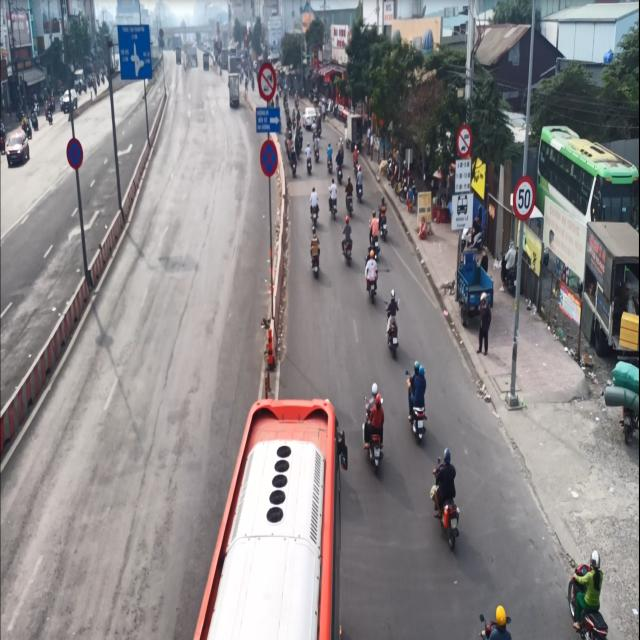motor: (562, 542, 604, 640), (429, 439, 462, 551), (362, 374, 392, 466), (402, 352, 429, 440), (386, 284, 406, 356), (359, 245, 382, 303), (307, 223, 327, 285)
